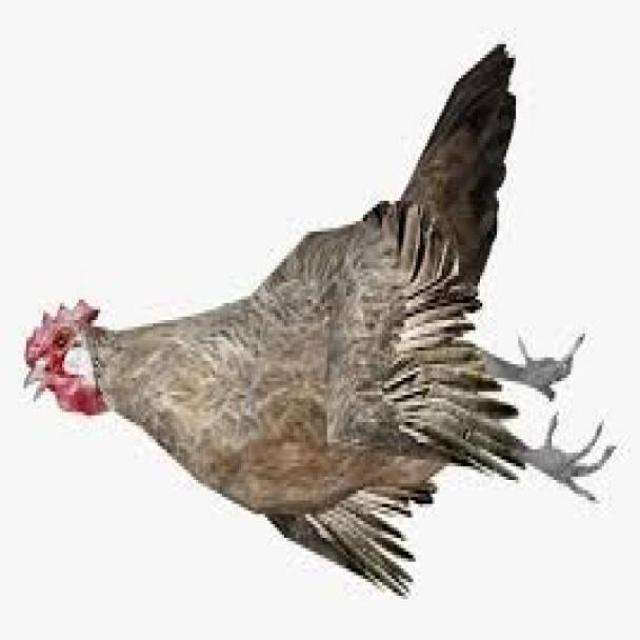Chicken: (21, 64, 625, 638)
